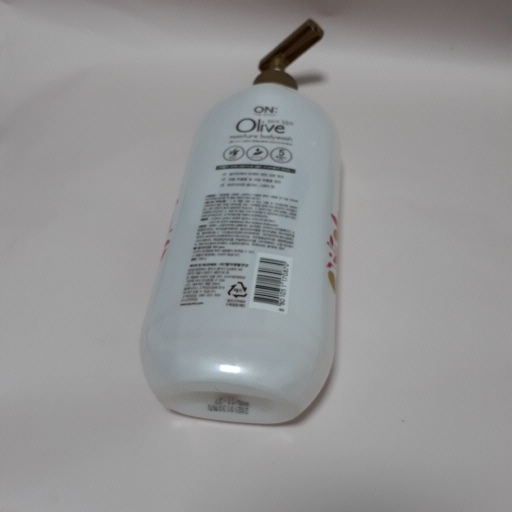Plastic_3: (141, 17, 346, 434)
